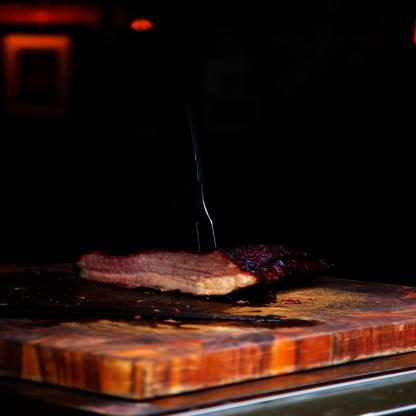Carne: (71, 247, 339, 294)
